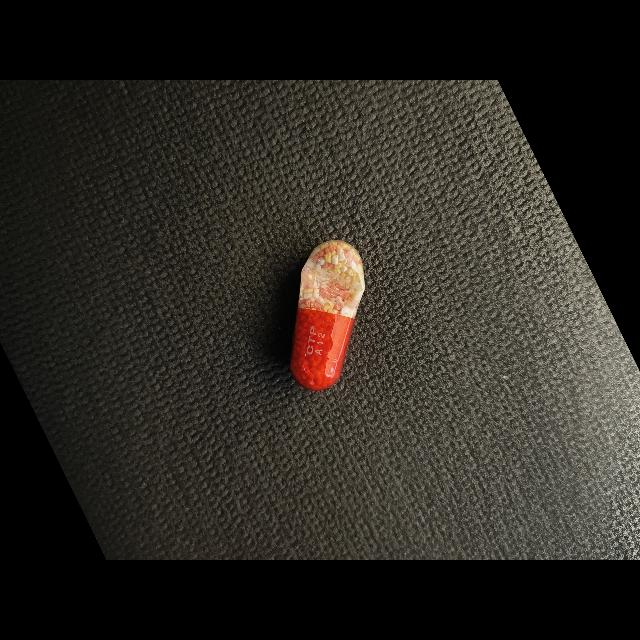Defective Capsule: (291, 240, 365, 390)
